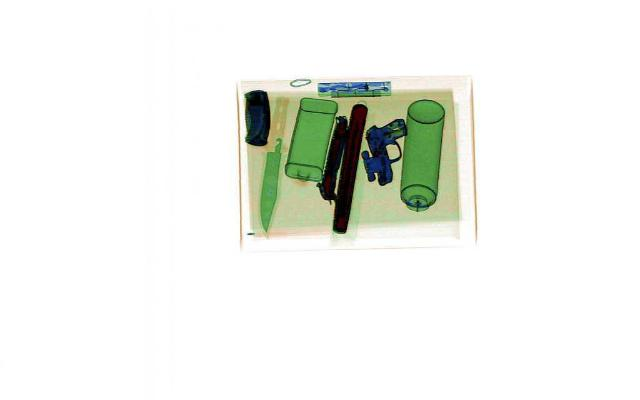Gun: (360, 116, 420, 186)
Knife: (254, 138, 284, 233), (316, 112, 348, 198), (240, 89, 272, 144)
